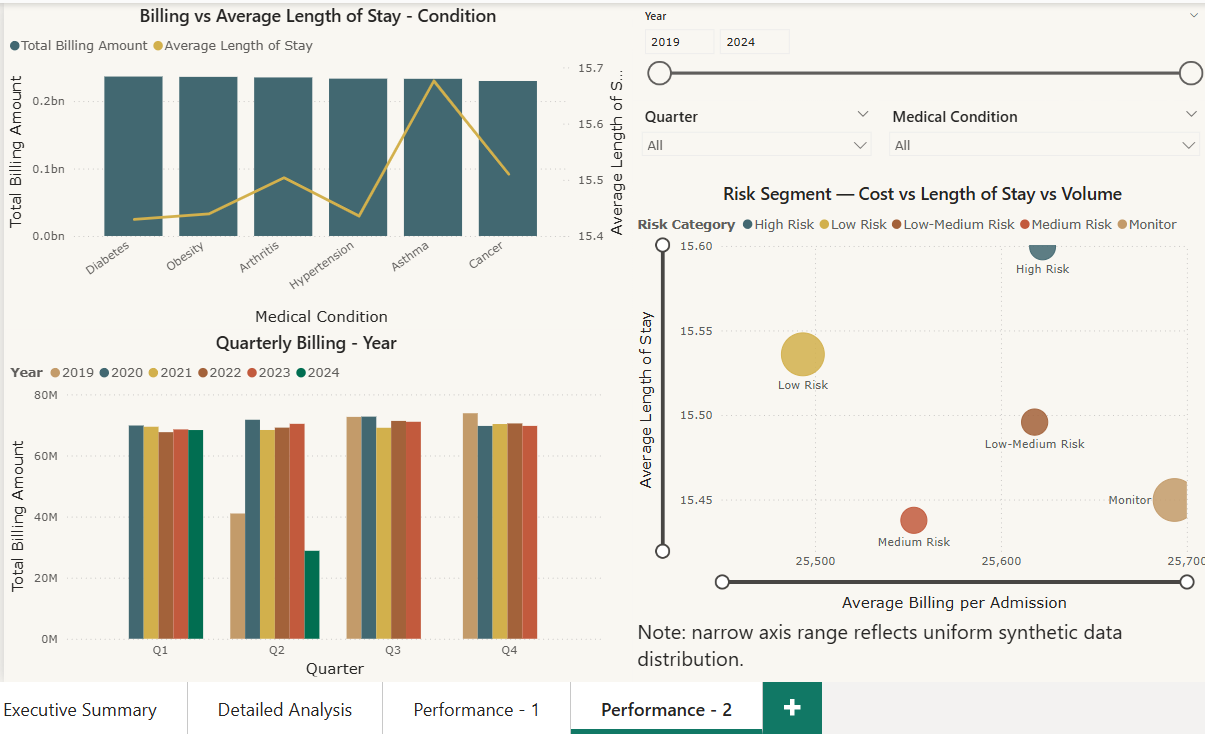

Layout of this report page (visuals, bound fields, positions):
{"tool":"powerbi","page":{"name":"Performance - 2","canvas":[1280,720],"ordinal":3},"visuals":[{"type":"clusteredColumnChart","title":"Quarterly Billing - Year","fields":{"Category":["Dim_Date.Quarter"],"Y":["Measures_Table.Total Billing Amount"],"Series":["Dim_Date.Year"]},"box":[1.8,346.1,637.7,372.4],"z":0},{"type":"lineClusteredColumnComboChart","title":" Billing vs Average Length of Stay - Condition","fields":{"Category":["Dim_Medical Condition.Medical Condition"],"Y":["Measures_Table.Total Billing Amount"],"Y2":["Measures_Table.Average Length of Stay"]},"box":[0,0,665.8,346.1],"z":1000},{"type":"slicer","fields":{"Values":["Dim_Date.Year"]},"box":[665.8,0,613.1,103.6],"z":2000},{"type":"slicer","fields":{"Values":["Dim_Date.Quarter"]},"box":[665.8,103.6,263.5,86.1],"z":3000},{"type":"slicer","fields":{"Values":["Dim_Medical Condition.Medical Condition"]},"box":[929.3,103.6,349.6,86.1],"z":4000},{"type":"scatterChart","title":"Risk Segment — Cost vs Length of Stay vs Volume","fields":{"X":["Measures_Table.Average Billing per Admission"],"Y":["Measures_Table.Average Length of Stay"],"Size":["Measures_Table.Total Admissions"],"Series":["Fact_Admissions.Risk Category"]},"box":[665.8,189.7,614.8,456.7],"z":5000},{"type":"textbox","box":[665.8,646.5,614.8,73.8],"z":6000}]}

Visuals, with their boxes on the page's 1280x720 design canvas (x1, y1, x2, y2). These are canvas units, not pixel positions in the 1205x734 screenshot, which may show the page scaled, cropped or inside an application window:
"Quarterly Billing - Year" clusteredColumnChart: rect(2, 346, 640, 718)
" Billing vs Average Length of Stay - Condition" lineClusteredColumnComboChart: rect(0, 0, 666, 346)
slicer - Dim_Date.Year: rect(666, 0, 1279, 104)
slicer - Dim_Date.Quarter: rect(666, 104, 929, 190)
slicer - Dim_Medical Condition.Medical Condition: rect(929, 104, 1279, 190)
"Risk Segment — Cost vs Length of Stay vs Volume" scatterChart: rect(666, 190, 1281, 646)
textbox: rect(666, 646, 1281, 720)
